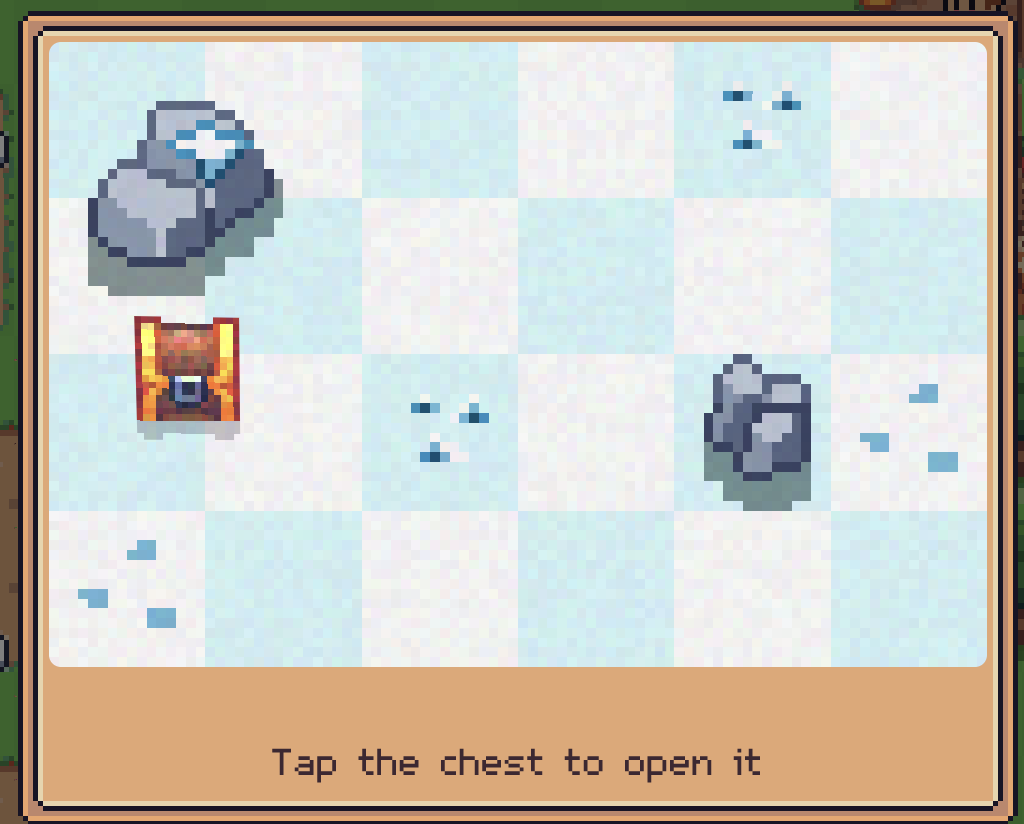capcha_chest: (131, 316, 244, 426)
